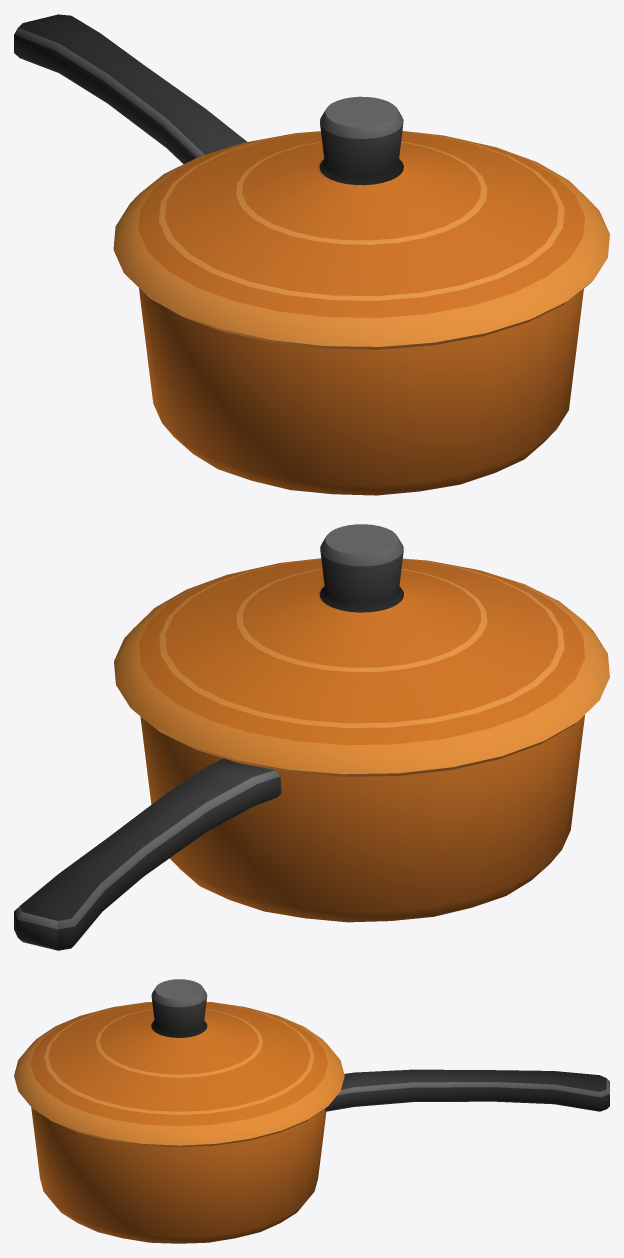
File: Pan_9.fbx
The picture shows the model from 3 angles, top to bottom: view 1: azimuth 30°, elevation 25°; view 2: azimuth 150°, elevation 25°; view 3: azimuth 270°, elevation 25°; orthographic projection. The views are drawn at different scales.
Visible parts, largest first — view 1: Pan_9 Top, Pan_9; view 2: Pan_9 Top, Pan_9; view 3: Pan_9 Top, Pan_9.
Part boxes in pixels (box(x1,y1,x2,y2)): Pan_9 Top: box(113, 96, 609, 349); Pan_9: box(14, 14, 583, 495); Pan_9 Top: box(114, 524, 609, 776); Pan_9: box(14, 715, 584, 950); Pan_9 Top: box(14, 979, 344, 1147); Pan_9: box(31, 1069, 609, 1243).
Bounding box in the file's own units: 0.2526 × 0.1681 × 0.4551.
